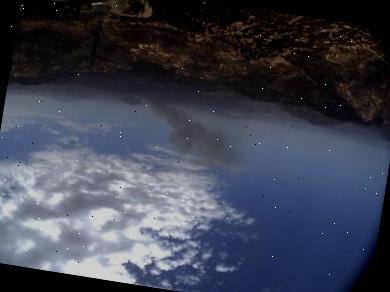smoke: (124, 84, 260, 178)
